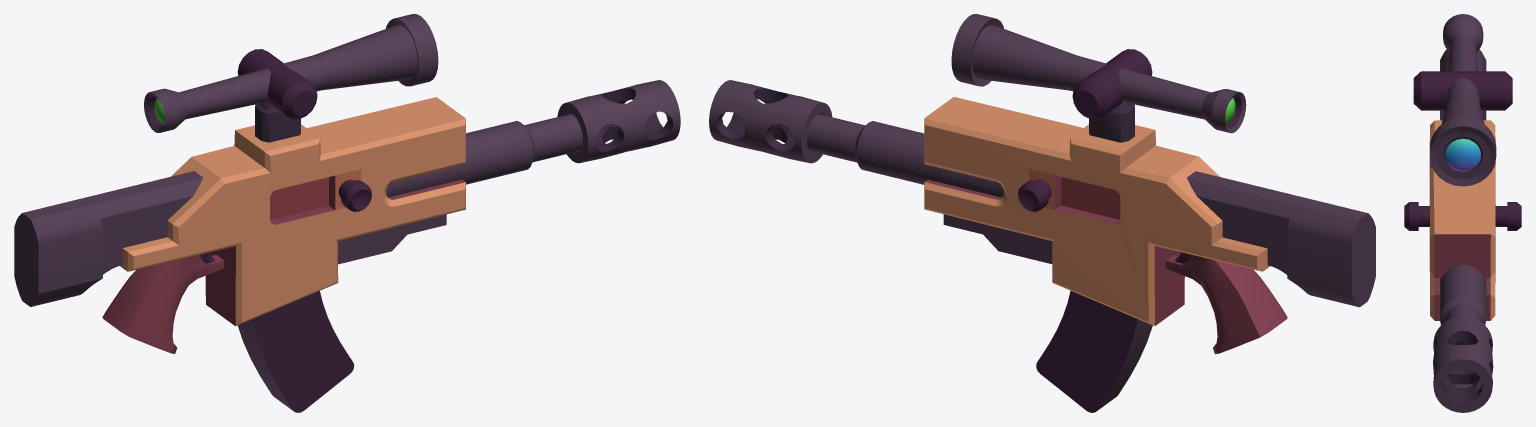
Rendered from Weapon9.fbx.
The picture shows the model from 3 angles, left to right: view 1: azimuth 30°, elevation 25°; view 2: azimuth 150°, elevation 25°; view 3: azimuth 270°, elevation 25°; orthographic projection. The views are drawn at different scales.
Parts seen in each view (by area): view 1: Weapon9; view 2: Weapon9; view 3: Weapon9.
Part boxes in pixels (bbox=[...]): Weapon9: bbox=[14, 14, 680, 412]; Weapon9: bbox=[709, 14, 1375, 412]; Weapon9: bbox=[1404, 14, 1521, 412].
Bounding box in the file's own units: 103 × 54.93 × 17.15.
